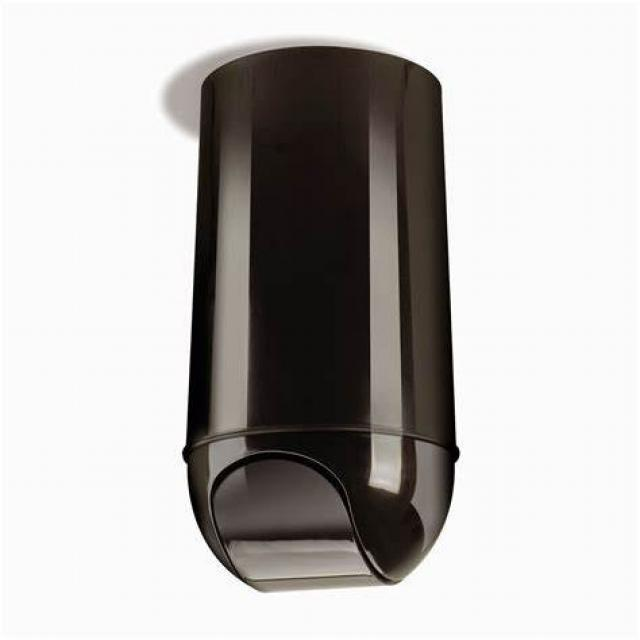garbage container: (131, 36, 493, 607)
